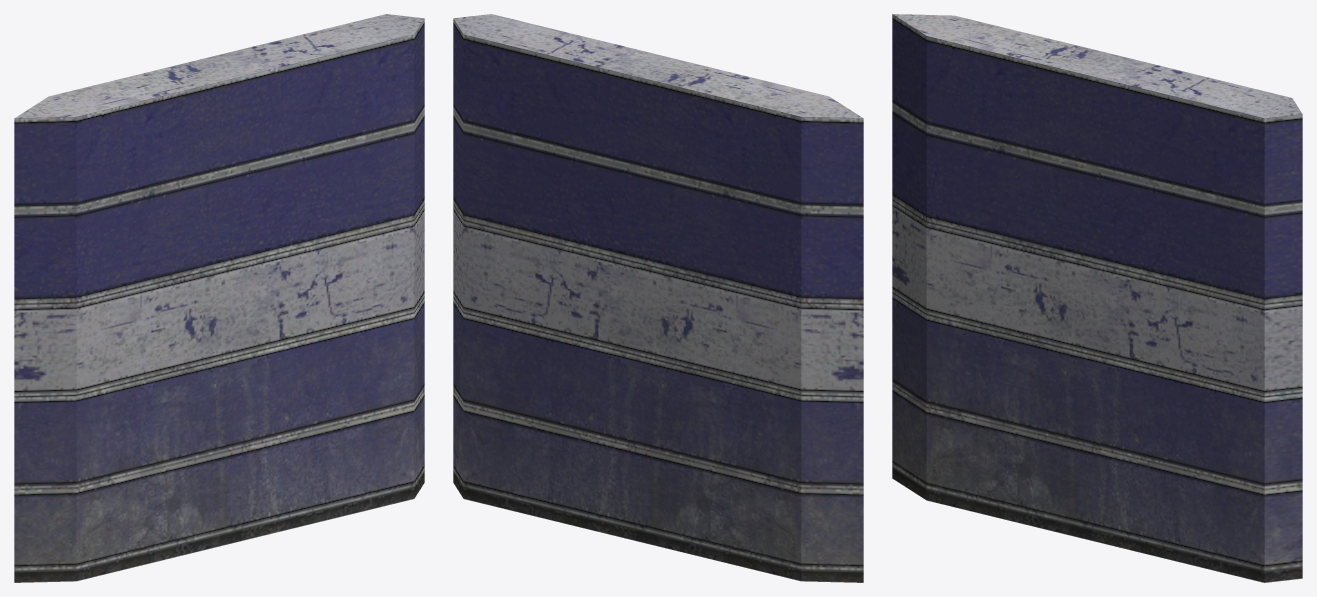
File: wall28.obj
The picture shows the model from 3 angles, left to right: view 1: azimuth 30°, elevation 25°; view 2: azimuth 150°, elevation 25°; view 3: azimuth 330°, elevation 25°; orthographic projection.
Parts seen in each view (by area): view 1: Cube.032; view 2: Cube.032; view 3: Cube.032.
Part boxes in pixels (bbox=[...]): Cube.032: bbox=[14, 14, 424, 582]; Cube.032: bbox=[453, 14, 863, 582]; Cube.032: bbox=[892, 14, 1302, 582].
Bounding box in the file's own units: 2.66 × 2.88 × 0.3125.
